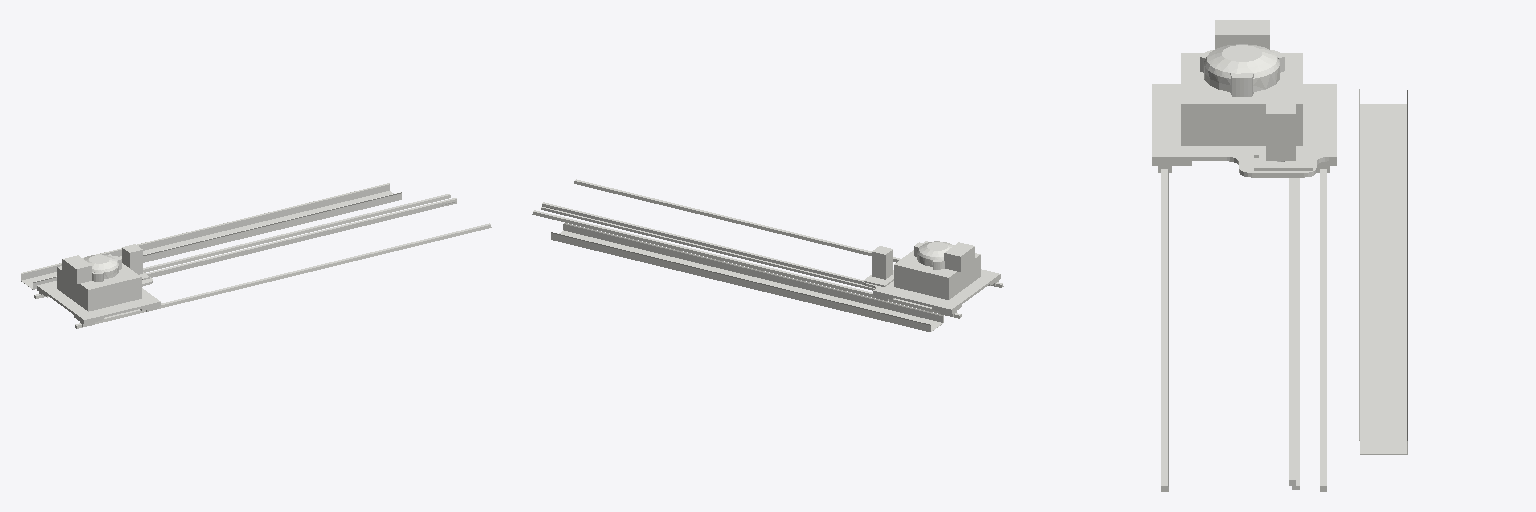
robot.urdf — abb_irb6700_linear_axis:
<?xml version="1.0" ?>
<!-- =================================================================================== -->
<!-- |    This document was autogenerated by xacro from abb_linear_axis.xacro          | -->
<!-- |    EDITING THIS FILE BY HAND IS NOT RECOMMENDED                                 | -->
<!-- =================================================================================== -->
<robot name="abb_irb6700_linear_axis" xmlns:xacro="http://ros.org/wiki/xacro">
  <!-- Conversion were obtained from http://www.e-paint.co.uk/Lab_values.asp
       unless otherwise stated. -->
  <!-- Conversion were obtained from http://www.e-paint.co.uk/Lab_values.asp
       unless otherwise stated. -->
  <link name="world"/>
  <joint name="world_joint" type="fixed">
    <parent link="world"/>
    <child link="axis"/>
    <origin rpy="0.0 0.0 0.0" xyz="0.0 0.0 0.0"/>
  </joint>
  <link name="axis">
    <inertial>
      <origin xyz="0.0 0.0 0.0"/>
      <mass value="120"/>
      <inertia ixx="-4.98000" ixy="-0.00000" ixz="2.70000" iyy="-5.95200" iyz="-0.00000" izz="0.82800"/>
    </inertial>
    <visual>
      <geometry>
        <mesh filename="package://abb_linear_axis/meshes/visual/axis_abb_irb6700.stl"/>
      </geometry>
      <material name="">
        <color rgba="0.9254902 0.9254902 0.9058824 1"/>
      </material>
    </visual>
    <collision>
      <geometry>
        <mesh filename="package://abb_linear_axis/meshes/collision/axis_abb_irb6700.stl"/>
      </geometry>
    </collision>
  </link>
  <link name="cart">
    <inertial>
      <origin xyz="0.0 0.0 0.0"/>
      <mass value="120.00000"/>
      <inertia ixx="-4.98000" ixy="-0.00000" ixz="2.70000" iyy="-5.95200" iyz="-0.00000" izz="0.82800"/>
    </inertial>
    <visual>
      <geometry>
        <mesh filename="package://abb_linear_axis/meshes/visual/cart_abb_irb6700.stl"/>
      </geometry>
      <material name="">
        <color rgba="0.9254902 0.9254902 0.9058824 1"/>
      </material>
    </visual>
    <collision>
      <geometry>
        <mesh filename="package://abb_linear_axis/meshes/collision/cart_abb_irb6700.stl"/>
      </geometry>
    </collision>
  </link>
  <joint name="axis_joint" type="prismatic">
    <parent link="axis"/>
    <child link="cart"/>
    <origin rpy="0 0 0 " xyz="0 0 0"/>
    <axis xyz="1 0 0"/>
    <limit effort="100000" lower="0.0" upper="4.2" velocity="2.618"/>
    <dynamics damping="0.2" friction="0"/>
  </joint>
  <joint name="abb_joint" type="fixed">
    <parent link="cart"/>
    <child link="base_link"/>
    <origin rpy="0 0 0 " xyz="0 0 0 "/>
    <dynamics damping="0.2" friction="0"/>
  </joint>
<!-- link list -->
<link name="base_link">
    <visual>
      <origin rpy="0 0 0" xyz="0 0 0"/>
      <geometry>
        <mesh filename="package://abb_irb6700_support/meshes/irb6700/visual/base_link.stl"/>
      </geometry>
      <material name="">
        <color rgba="0.9254902 0.9254902 0.9058824 1"/>
      </material>
    </visual>
    <collision>
      <origin rpy="0 0 0" xyz="0 0 0"/>
      <geometry>
        <mesh filename="package://abb_irb6700_support/meshes/irb6700/collision/base_link.stl"/>
      </geometry>
      <material name="">
        <color rgba="1 1 0 1"/>
      </material>
    </collision>
  </link>
  <link name="link_1">
    <visual>
      <origin rpy="0 0 0" xyz="0 0 0"/>
      <geometry>
        <mesh filename="package://abb_irb6700_support/meshes/irb6700/visual/link_1.stl"/>
      </geometry>
      <material name="">
        <color rgba="0.9254902 0.9254902 0.9058824 1"/>
      </material>
    </visual>
    <collision>
      <origin rpy="0 0 0" xyz="0 0 0"/>
      <geometry>
        <mesh filename="package://abb_irb6700_support/meshes/irb6700/collision/link_1.stl"/>
      </geometry>
      <material name="">
        <color rgba="1 1 0 1"/>
      </material>
    </collision>
  </link>
  <link name="cylinder">
    <visual>
      <origin rpy="0 0 0" xyz="0 0 0"/>
      <geometry>
        <mesh filename="package://abb_irb6700_support/meshes/irb6700/visual/cylinder.stl"/>
      </geometry>
      <material name="">
        <color rgba="0.9254902 0.9254902 0.9058824 1"/>
      </material>
    </visual>
    <collision>
      <origin rpy="0 0 0" xyz="0 0 0"/>
      <geometry>
        <mesh filename="package://abb_irb6700_support/meshes/irb6700/collision/cylinder.stl"/>
      </geometry>
      <material name="">
        <color rgba="1 1 0 1"/>
      </material>
    </collision>
  </link>
  <link name="piston">
    <visual>
      <origin rpy="0 0 0" xyz="0 0 0"/>
      <geometry>
        <mesh filename="package://abb_irb6700_support/meshes/irb6700/visual/piston.stl"/>
      </geometry>
      <material name="">
        <color rgba="0.9254902 0.9254902 0.9058824 1"/>
      </material>
    </visual>
    <collision>
      <origin rpy="0 0 0" xyz="0 0 0"/>
      <geometry>
        <mesh filename="package://abb_irb6700_support/meshes/irb6700/collision/piston.stl"/>
      </geometry>
      <material name="">
        <color rgba="1 1 0 1"/>
      </material>
    </collision>
  </link>
  <link name="link_2">
    <visual>
      <origin rpy="0 0 0" xyz="0 0 0"/>
      <geometry>
        <mesh filename="package://abb_irb6700_support/meshes/irb6700_150_320/visual/link_2.stl"/>
      </geometry>
      <material name="">
        <color rgba="0.9254902 0.9254902 0.9058824 1"/>
      </material>
    </visual>
    <collision>
      <origin rpy="0 0 0" xyz="0 0 0"/>
      <geometry>
        <mesh filename="package://abb_irb6700_support/meshes/irb6700_150_320/collision/link_2.stl"/>
      </geometry>
      <material name="">
        <color rgba="1 1 0 1"/>
      </material>
    </collision>
  </link>
  <link name="link_3">
    <visual>
      <origin rpy="0 0 0" xyz="0 0 0"/>
      <geometry>
        <mesh filename="package://abb_irb6700_support/meshes/irb6700_150_320/visual/link_3.stl"/>
      </geometry>
      <material name="">
        <color rgba="0.9254902 0.9254902 0.9058824 1"/>
      </material>
    </visual>
    <collision>
      <origin rpy="0 0 0" xyz="0 0 0"/>
      <geometry>
        <mesh filename="package://abb_irb6700_support/meshes/irb6700_150_320/collision/link_3.stl"/>
      </geometry>
      <material name="">
        <color rgba="1 1 0 1"/>
      </material>
    </collision>
  </link>
  <link name="link_4">
    <visual>
      <origin rpy="0 0 0" xyz="0 0 0"/>
      <geometry>
        <mesh filename="package://abb_irb6700_support/meshes/irb6700_150_320/visual/link_4.stl"/>
      </geometry>
      <material name="">
        <color rgba="0.9254902 0.9254902 0.9058824 1"/>
      </material>
    </visual>
    <collision>
      <origin rpy="0 0 0" xyz="0 0 0"/>
      <geometry>
        <mesh filename="package://abb_irb6700_support/meshes/irb6700_150_320/collision/link_4.stl"/>
      </geometry>
      <material name="">
        <color rgba="1 1 0 1"/>
      </material>
    </collision>
  </link>
  <link name="link_5">
    <visual>
      <origin rpy="0 0 0" xyz="0 0 0"/>
      <geometry>
        <mesh filename="package://abb_irb6700_support/meshes/irb6700/visual/link_5.stl"/>
      </geometry>
      <material name="">
        <color rgba="0.9254902 0.9254902 0.9058824 1"/>
      </material>
    </visual>
    <collision>
      <origin rpy="0 0 0" xyz="0 0 0"/>
      <geometry>
        <mesh filename="package://abb_irb6700_support/meshes/irb6700/collision/link_5.stl"/>
      </geometry>
      <material name="">
        <color rgba="1 1 0 1"/>
      </material>
    </collision>
  </link>
  <link name="link_6">
    <visual>
      <origin rpy="0 0 0" xyz="0 0 0"/>
      <geometry>
        <mesh filename="package://abb_irb6700_support/meshes/irb6700/visual/link_6.stl"/>
      </geometry>
      <material name="">
        <color rgba="0.9254902 0.9254902 0.9058824 1"/>
      </material>
    </visual>
    <collision>
      <origin rpy="0 0 0" xyz="0 0 0"/>
      <geometry>
        <mesh filename="package://abb_irb6700_support/meshes/irb6700/collision/link_6.stl"/>
      </geometry>
      <material name="">
        <color rgba="1 1 0 1"/>
      </material>
    </collision>
  </link>
  <joint name="joint_1" type="revolute">
    <origin rpy="0 0 0" xyz="0 0 0.78"/>
    <parent link="base_link"/>
    <child link="link_1"/>
    <axis xyz="0 0 1"/>
    <limit effort="0" lower="-2.96705972839" upper="2.96705972839" velocity="1.91986217719"/>
  </joint>
  <joint name="joint_2" type="revolute">
    <origin rpy="0 0 0" xyz="0.32 0 0"/>
    <parent link="link_1"/>
    <child link="link_2"/>
    <axis xyz="0 1 0"/>
    <limit effort="0" lower="-1.1344640138" upper="1.4835298642" velocity="1.91986217719"/>
  </joint>
  <joint name="joint_3" type="revolute">
    <origin rpy="0 0 0" xyz="0 0 1.280"/>
    <parent link="link_2"/>
    <child link="link_3"/>
    <axis xyz="0 1 0"/>
    <limit effort="0" lower="-3.14159265359" upper="1.2217304764" velocity="1.91986217719"/>
  </joint>
  <joint name="joint_4" type="revolute">
    <origin rpy="0 0 0" xyz="0 0 0.2"/>
    <parent link="link_3"/>
    <child link="link_4"/>
    <axis xyz="1 0 0"/>
    <limit effort="0" lower="-5.23598775598" upper="5.23598775598" velocity="3.31612557879"/>
  </joint>
  <joint name="joint_5" type="revolute">
    <origin rpy="0 0 0" xyz="1.593 0 0"/>
    <parent link="link_4"/>
    <child link="link_5"/>
    <axis xyz="0 1 0"/>
    <limit effort="0" lower="-2.26892802759" upper="2.26892802759" velocity="2.61799387799"/>
  </joint>
  <joint name="joint_6" type="revolute">
    <origin rpy="0 0 0" xyz="0.2 0 0"/>
    <parent link="link_5"/>
    <child link="link_6"/>
    <axis xyz="1 0 0"/>
    <limit effort="0" lower="-6.28318530718" upper="6.28318530718" velocity="3.66519142919"/>
  </joint>
  <joint name="cylinder_joint" type="revolute">
    <origin rpy="0 0 0" xyz="-0.349 -0.194 -0.142"/>
    <parent link="link_1"/>
    <child link="cylinder"/>
    <axis xyz="0 1 0"/>
    <mimic joint="joint_2" multiplier="-0.25"/>
    <limit effort="0" lower="-0.283616003449" upper="0.370882466049" velocity="100"/>
  </joint>
  <joint name="piston_joint" type="prismatic">
    <origin rpy="0.20897 0 -1.57079632679" xyz="0 0 0"/>
    <parent link="cylinder"/>
    <child link="piston"/>
    <axis xyz="0 1 0"/>
    <mimic joint="joint_2" multiplier="0.15"/>
    <limit effort="0" lower="-0.25" upper="0.25" velocity="100"/>
  </joint>
  <!-- ROS-Industrial 'base' frame: base_link to ABB World Coordinates transform -->
  <link name="base"/>
  <joint name="base_link-base" type="fixed">
    <origin rpy="0 0 0" xyz="0 0 0"/>
    <parent link="base_link"/>
    <child link="base"/>
  </joint>
  <!-- ROS-Industrial 'flange' frame: attachment point for EEF models -->
  <link name="flange"/>
  <joint name="joint_6-flange" type="fixed">
    <origin rpy="0 0 0" xyz="0 0 0"/>
    <parent link="link_6"/>
    <child link="flange"/>
  </joint>
  <!-- ROS-Industrial 'tool0' frame: all-zeros tool frame -->
  <link name="tool0"/>
  <joint name="link_6-tool0" type="fixed">
    <origin rpy="0 1.57079632679 0" xyz="0 0 0"/>
    <parent link="flange"/>
    <child link="tool0"/>
  </joint>
  <!-- end of joint list -->
</robot>

--- Render facts (derived) ---
3 views of the same robot in one strip: view 1: azimuth 30°, elevation 25°; view 2: azimuth 150°, elevation 25°; view 3: azimuth 270°, elevation 25° (orthographic).
Model abb_irb6700_linear_axis with 15 links and 14 joints (7 revolute, 2 prismatic, 5 fixed), rooted at world, posed all joints at 0.
Links seen in each view (by area): view 1: axis, cart, base_link; view 2: axis, cart, base_link; view 3: axis, cart, base_link.
Boxes of the visible links, <box> form: axis: <box>21,183,491,328</box>; cart: <box>37,244,160,326</box>; base_link: <box>62,255,121,283</box>; axis: <box>532,179,1003,331</box>; cart: <box>863,241,1000,316</box>; base_link: <box>914,241,974,271</box>; axis: <box>1161,89,1407,491</box>; cart: <box>1152,53,1336,177</box>; base_link: <box>1200,20,1284,96</box>.
Size in the robot's own frame: 5.59 by 1.54 by 0.595 metres.
3 mesh visuals loaded from 11 distinct referenced files (3 binary STL); not drawn: 8 (reference not matched to a file when rendering).